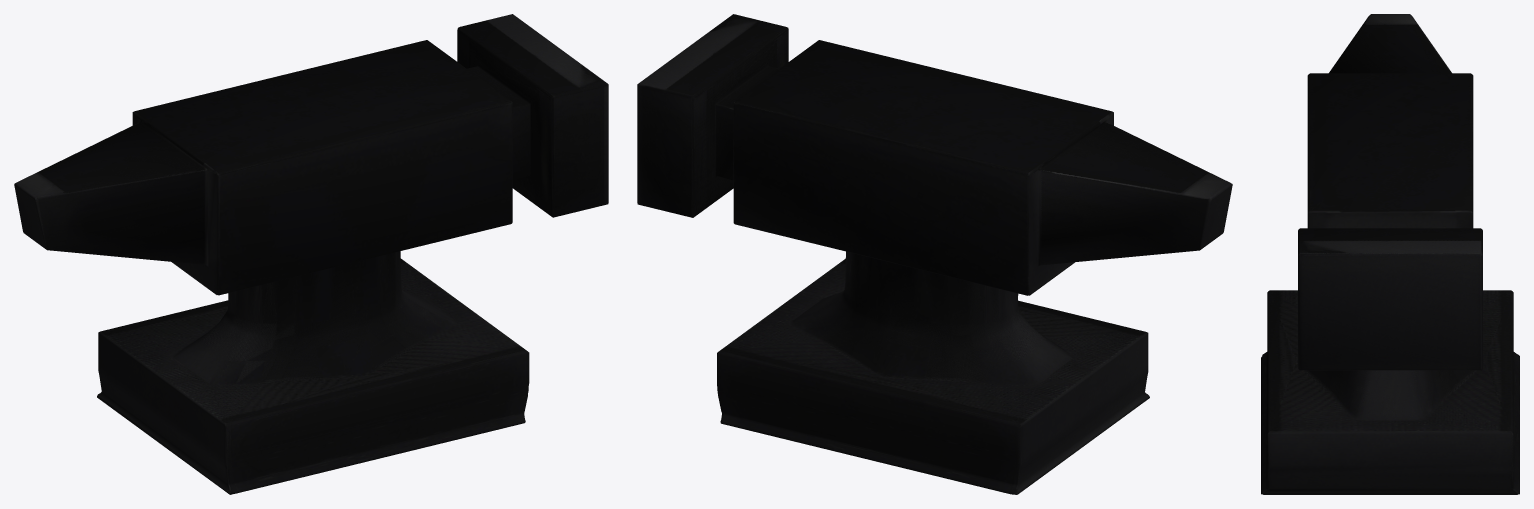
The model's file is anvil.glb.
The picture shows the model from 3 angles, left to right: view 1: azimuth 30°, elevation 25°; view 2: azimuth 150°, elevation 25°; view 3: azimuth 270°, elevation 25°; orthographic projection. The views are drawn at different scales.
Bounding box in the file's own units: 1.9 × 1.02 × 0.8258.
Materials: 1 (1 with a texture image).
